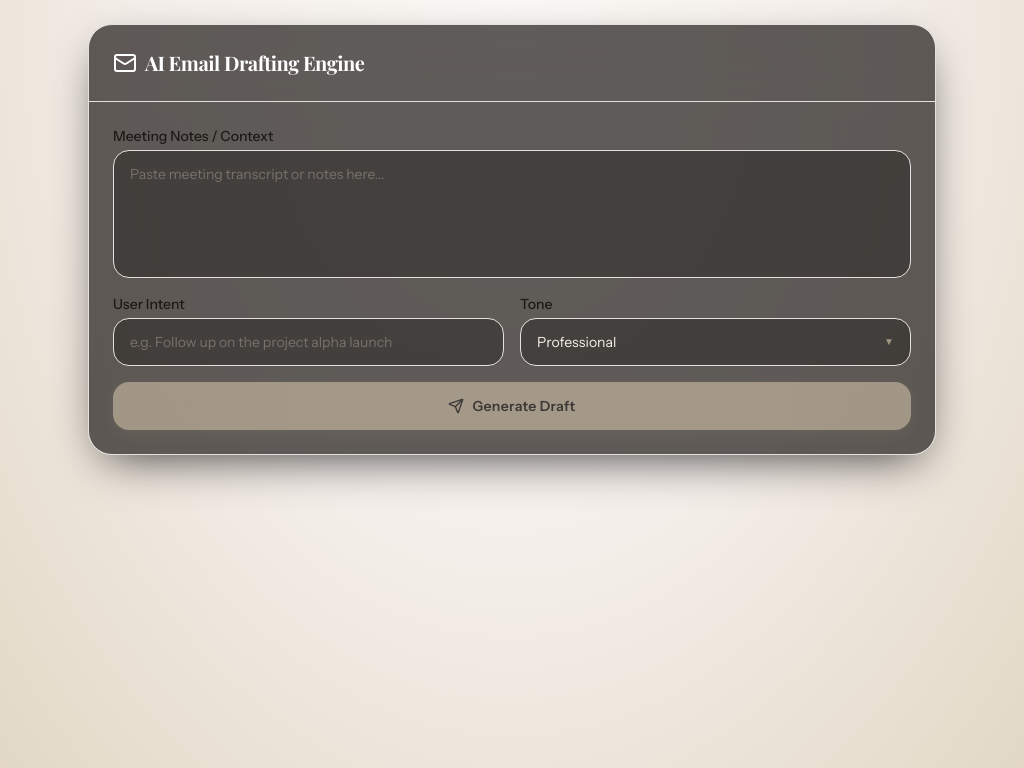
Test: EmailDraftEngine › enables generate button when input is provided
Type "Test meeting notes" into the text box with placeholder "Paste meeting transcript or notes here..." at {"x": 512, "y": 214}, box x1=113 y1=150 x2=911 y2=278
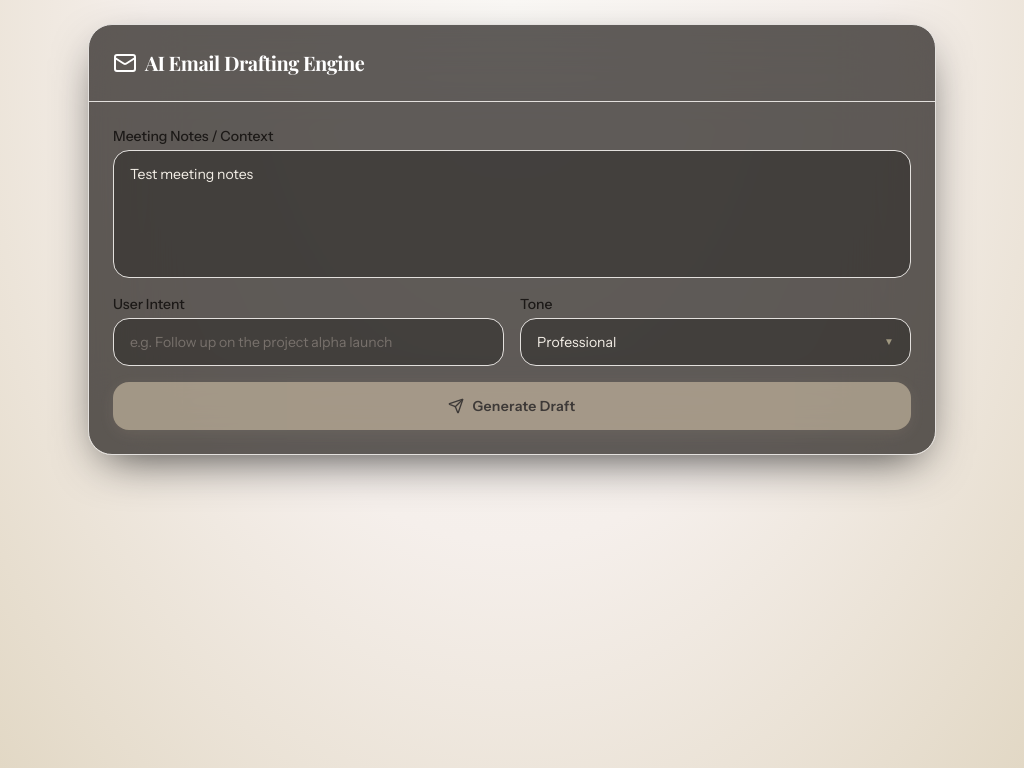
Type "Draft a thank you" into the field with placeholder "e.g. Follow up on the project alpha launch" at {"x": 308, "y": 342}, box x1=113 y1=318 x2=504 y2=366
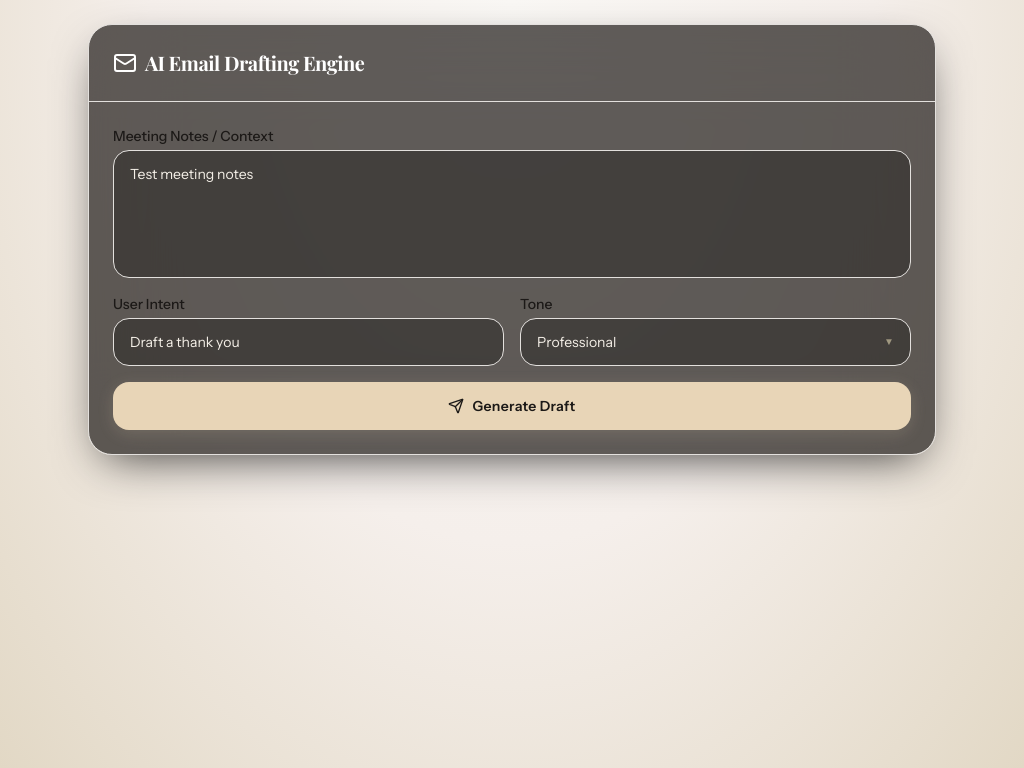
Check: the button "Generate Draft" is enabled, box x1=113 y1=382 x2=911 y2=430
